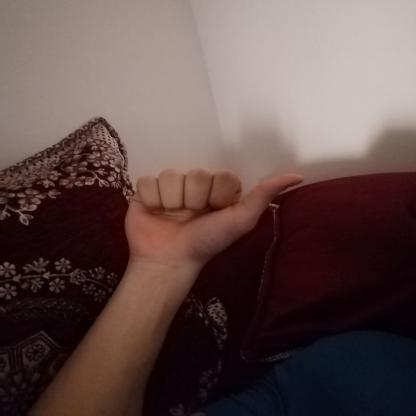DAD: (108, 160, 320, 272)
